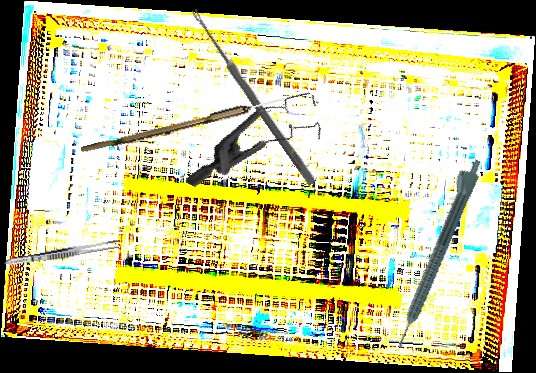Dressing Forceps: (3, 237, 122, 269)
Handpiece: (385, 154, 485, 350)
Speculum: (184, 60, 337, 229)
Surgical Spoon: (188, 8, 318, 186), (80, 87, 308, 158)
